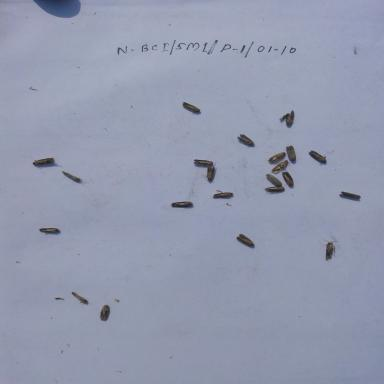pbw: (167, 99, 211, 119), (25, 152, 65, 170), (231, 231, 263, 253), (168, 195, 201, 216), (233, 131, 263, 153), (207, 187, 241, 204), (95, 299, 118, 323), (320, 235, 336, 265), (279, 169, 303, 188), (266, 147, 289, 165), (61, 165, 84, 183), (269, 158, 290, 174), (262, 185, 290, 197), (190, 154, 218, 166), (264, 172, 284, 188), (308, 149, 328, 164), (70, 291, 90, 306), (202, 162, 217, 182), (42, 224, 66, 236), (284, 144, 298, 163), (283, 109, 297, 128), (338, 191, 362, 201)
